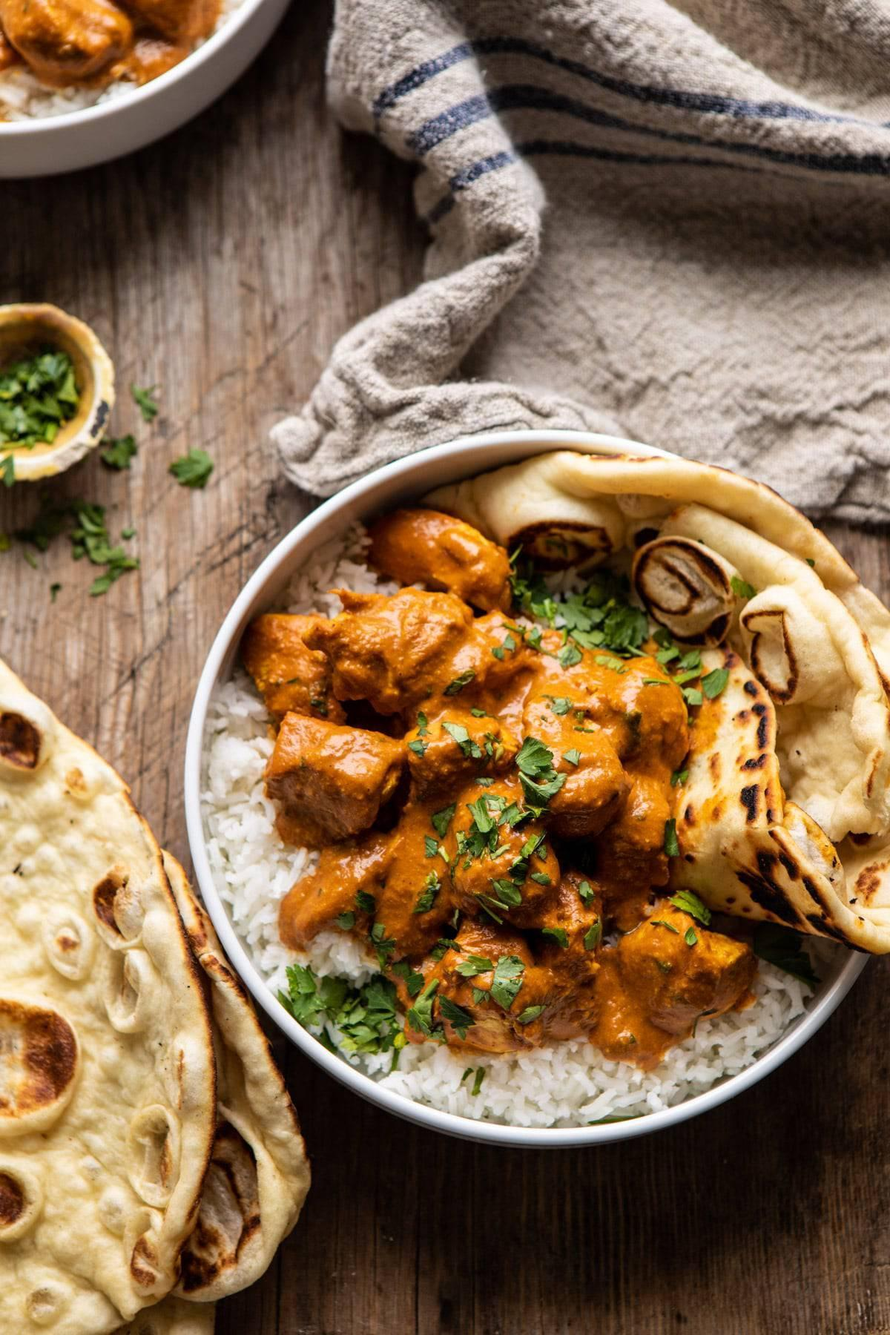chicken: (289, 532, 727, 1001)
roti: (0, 695, 256, 1335), (757, 465, 890, 934)
